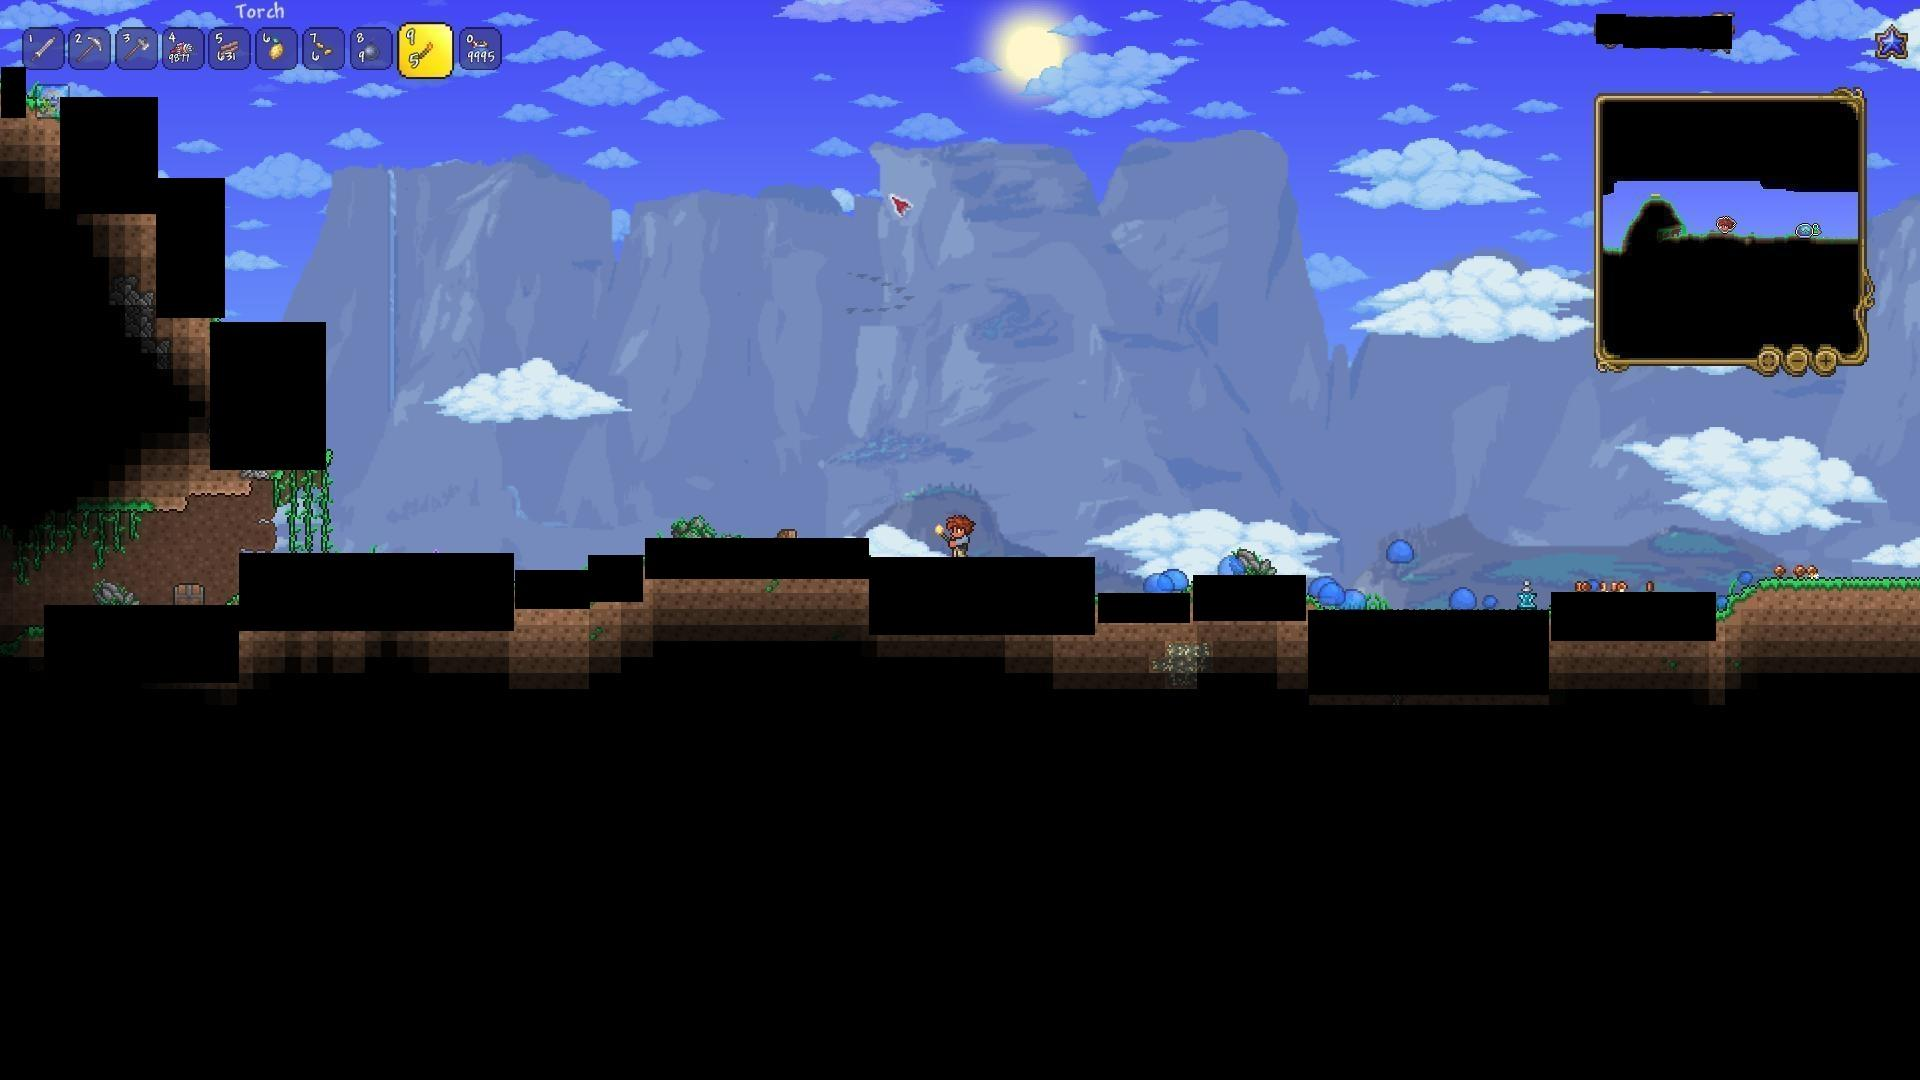dirt: (1717, 566, 1920, 617)
slime: (1143, 568, 1192, 597), (1309, 574, 1348, 607), (1385, 537, 1418, 564), (1447, 585, 1477, 612), (1342, 584, 1369, 615), (1216, 553, 1247, 578)
wood: (219, 34, 241, 59)
